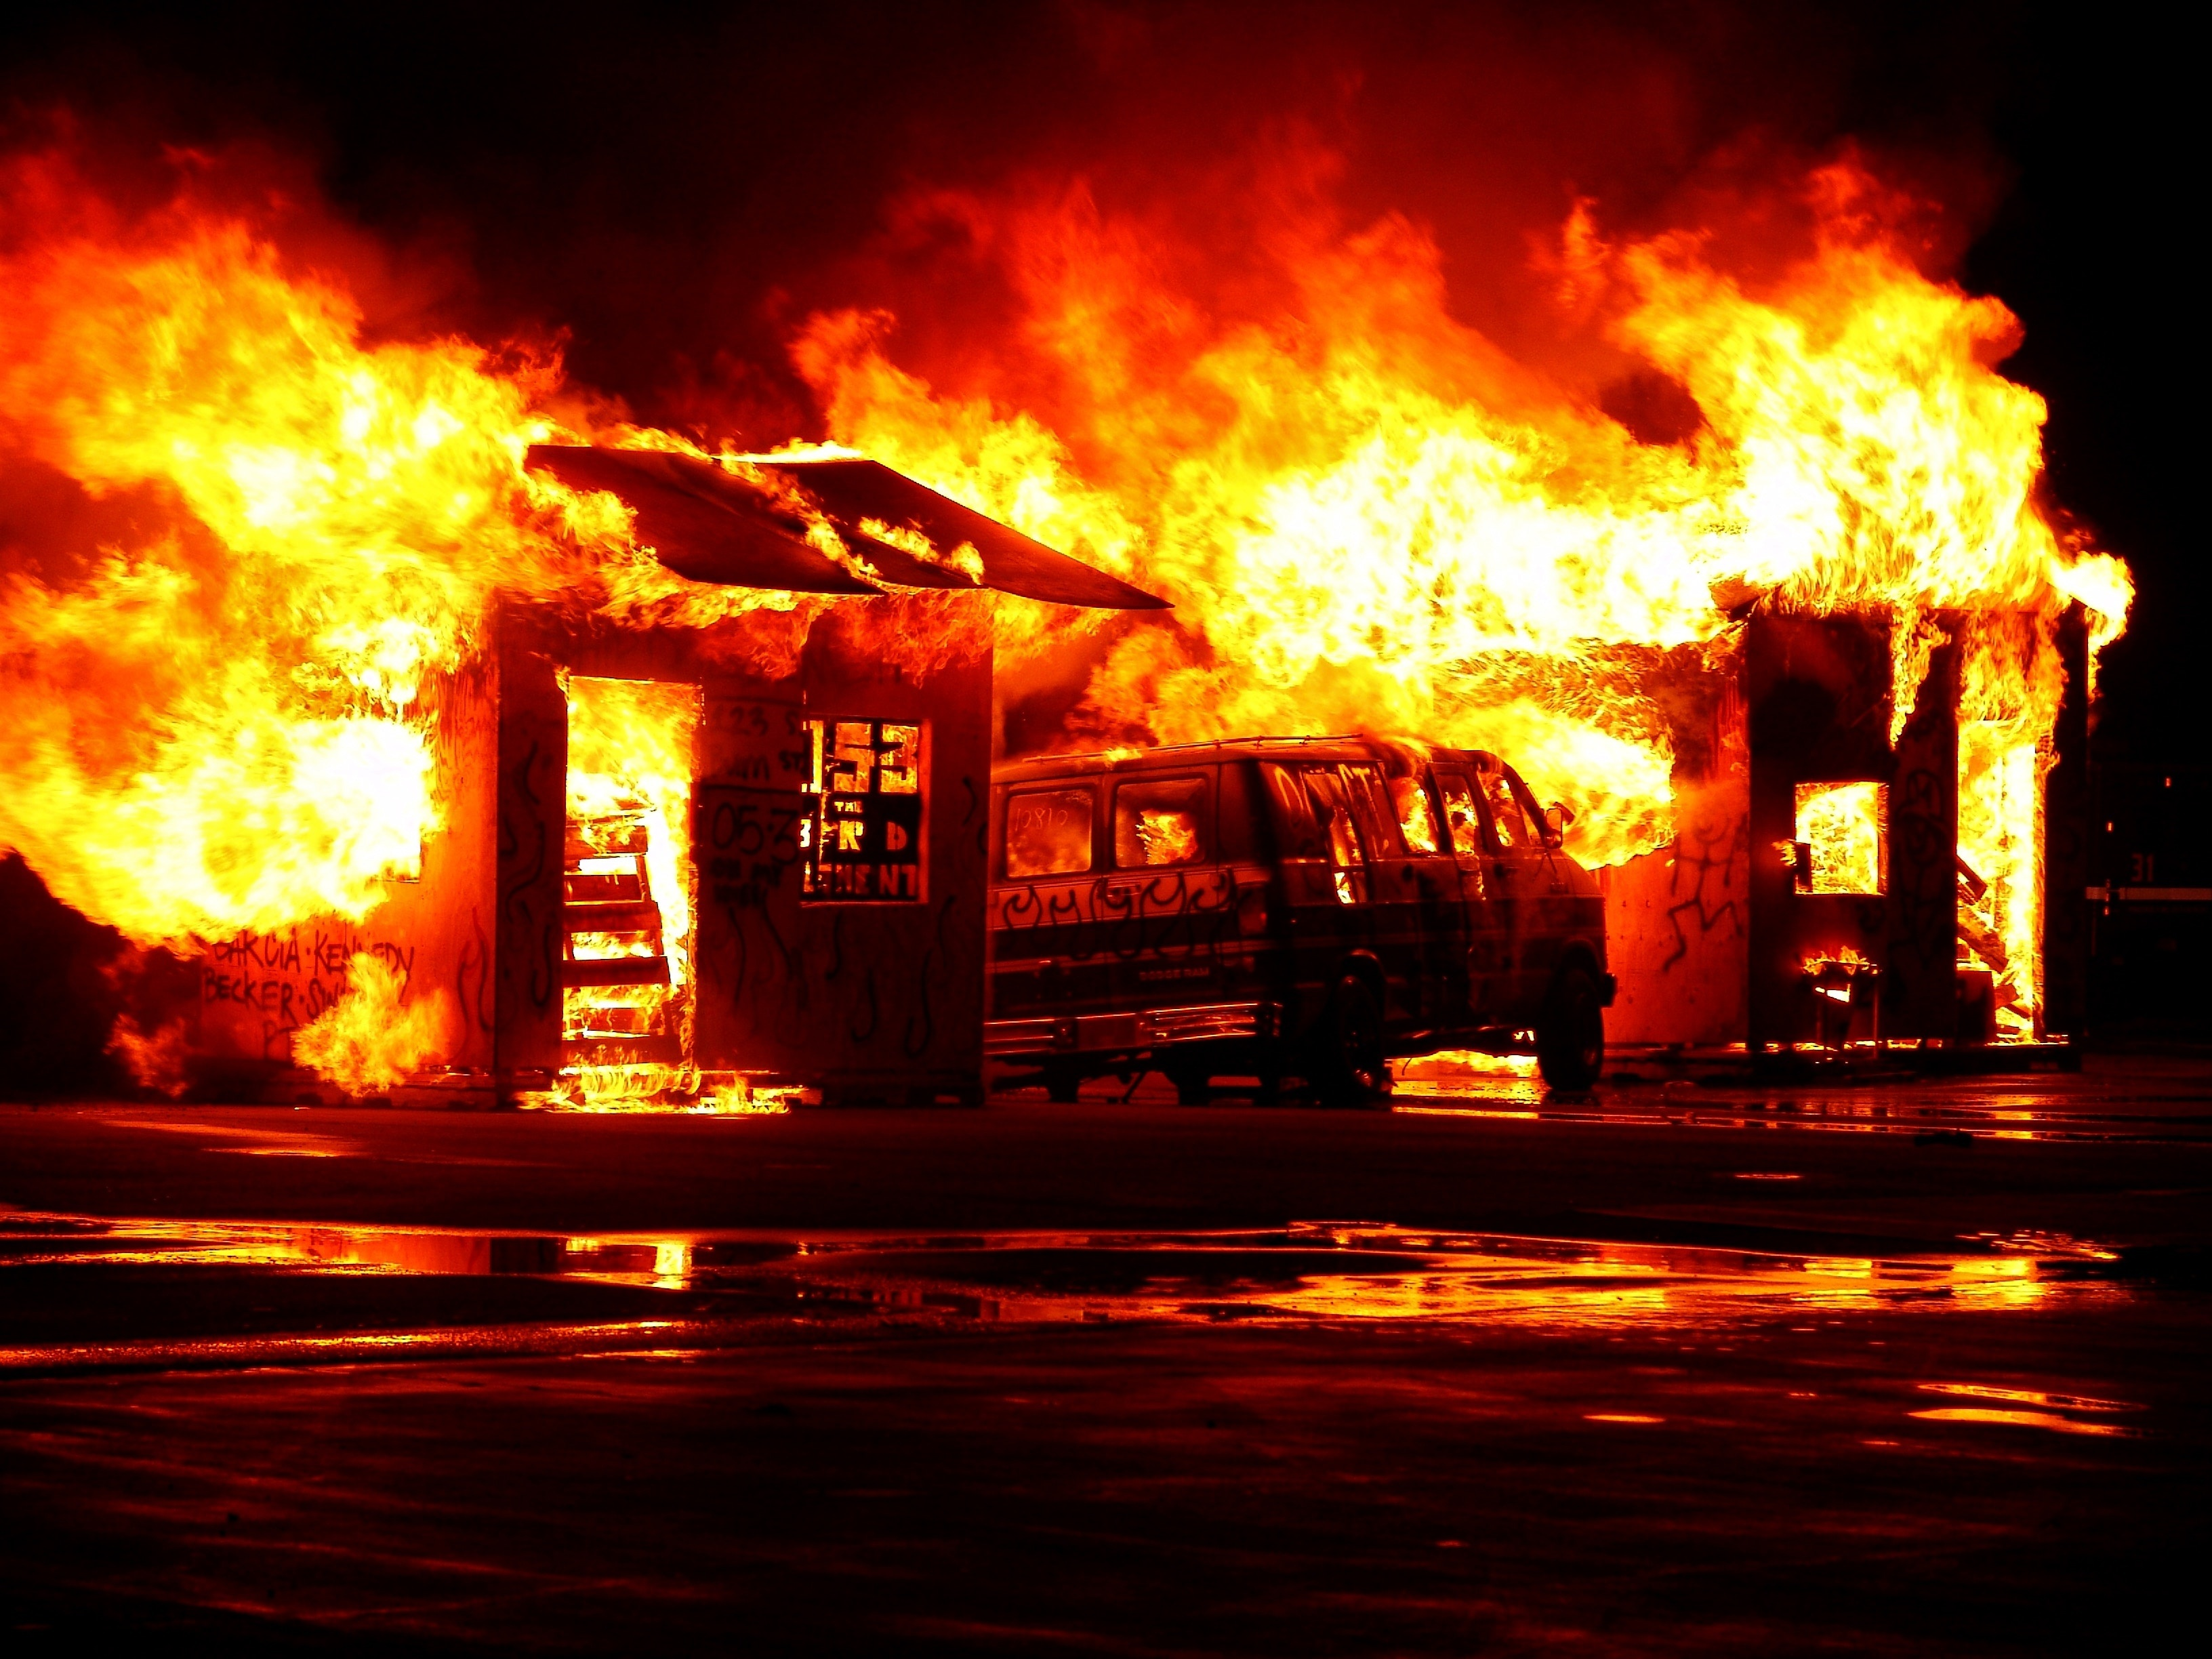fire: (0, 173, 2186, 1399)
